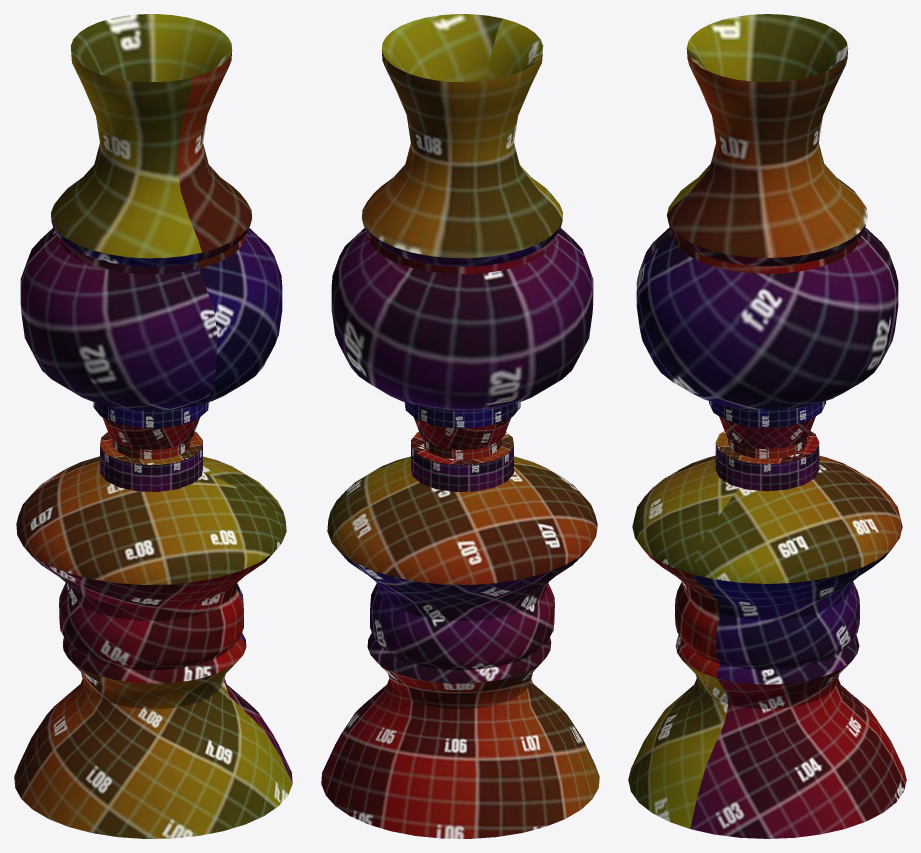
Rendered from LAMP_UNWRAPPED.fbx.
3 renders of one model, left to right at view 1: azimuth 30°, elevation 25°; view 2: azimuth 150°, elevation 25°; view 3: azimuth 270°, elevation 25°, orthographic.
Visible parts, largest first — view 1: Cylinder, Cylinder.002, Cylinder.001; view 2: Cylinder, Cylinder.002, Cylinder.001; view 3: Cylinder, Cylinder.002, Cylinder.001.
Part boxes in pixels (left/top/right/bottom): Cylinder: left=14, top=456, right=292, bottom=838; Cylinder.002: left=20, top=14, right=282, bottom=410; Cylinder.001: left=93, top=402, right=209, bottom=491; Cylinder: left=321, top=456, right=599, bottom=838; Cylinder.002: left=331, top=14, right=593, bottom=410; Cylinder.001: left=404, top=402, right=520, bottom=491; Cylinder: left=628, top=455, right=906, bottom=838; Cylinder.002: left=636, top=14, right=898, bottom=410; Cylinder.001: left=709, top=401, right=825, bottom=491.
Bounding box in the file's own units: 19.56 × 56.65 × 19.56.
